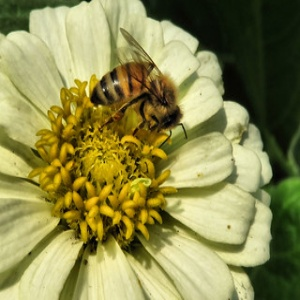bee: (87, 27, 190, 151)
